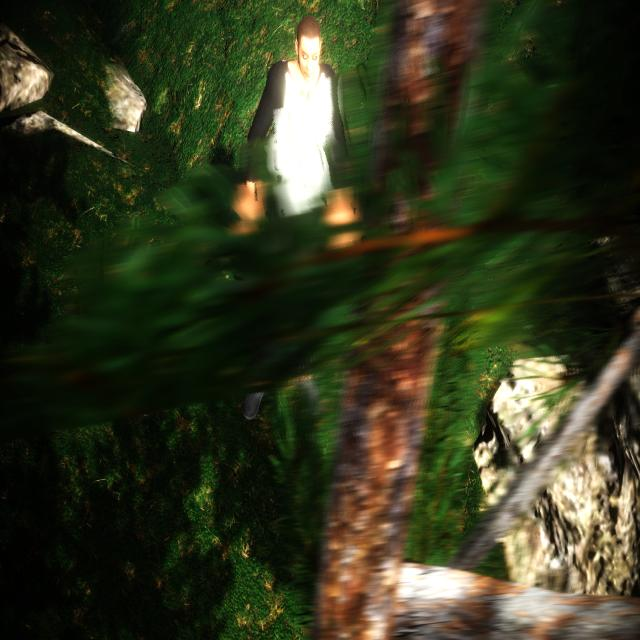Human: (242, 11, 351, 432)
